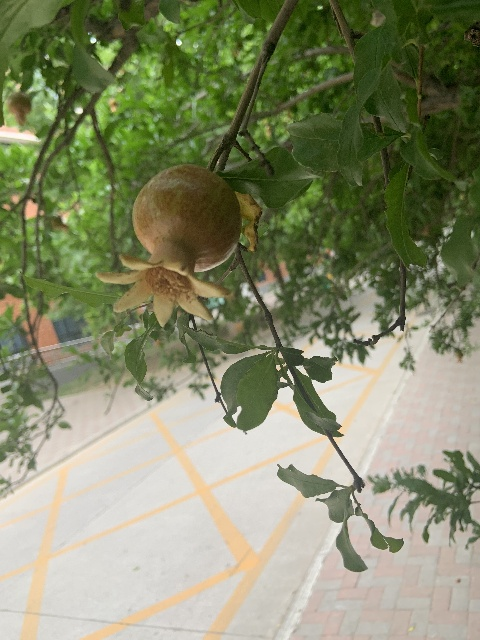early-fruit: (95, 165, 240, 329)
mid-growth: (5, 92, 32, 125)
